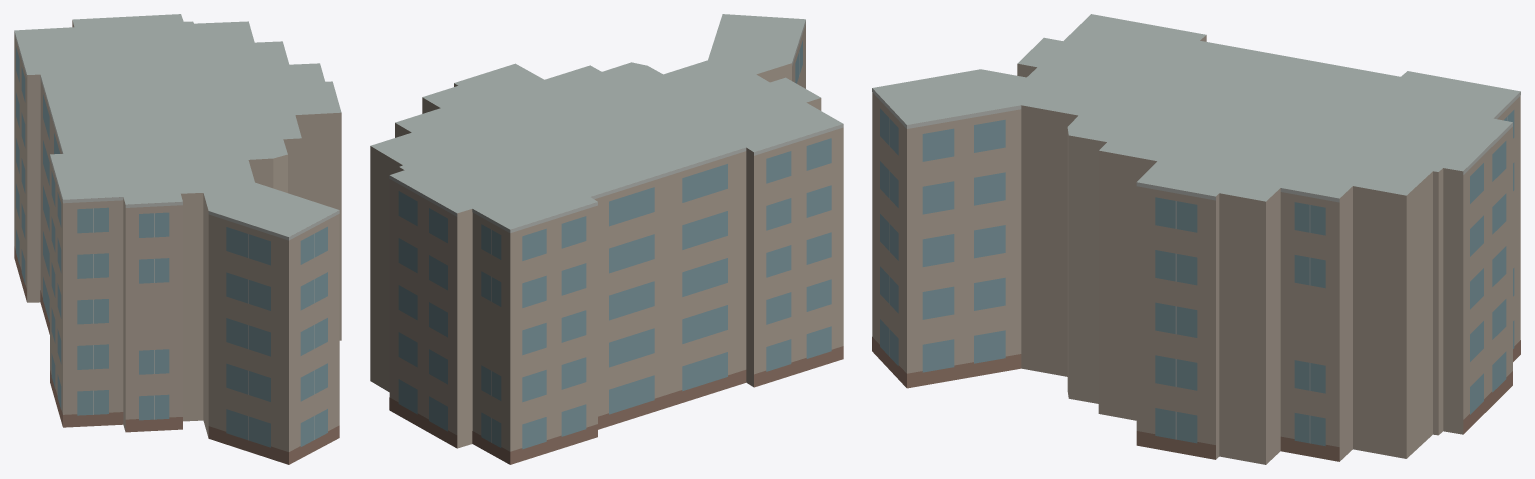
File: survey-upis-32661121.glb
3 renders of one model, left to right at view 1: azimuth 30°, elevation 25°; view 2: azimuth 150°, elevation 25°; view 3: azimuth 270°, elevation 25°, orthographic. The views are drawn at different scales.
Visible parts, largest first — view 1: survey-upis-32661121.tmp; view 2: survey-upis-32661121.tmp; view 3: survey-upis-32661121.tmp.
Boxes of the visible parts, x1,y1,x2,y2 form: survey-upis-32661121.tmp: (14,14,341,464); survey-upis-32661121.tmp: (370,14,843,464); survey-upis-32661121.tmp: (872,14,1520,464).
Size of the model in its own units: 24.61 by 16.1 by 35.95.
